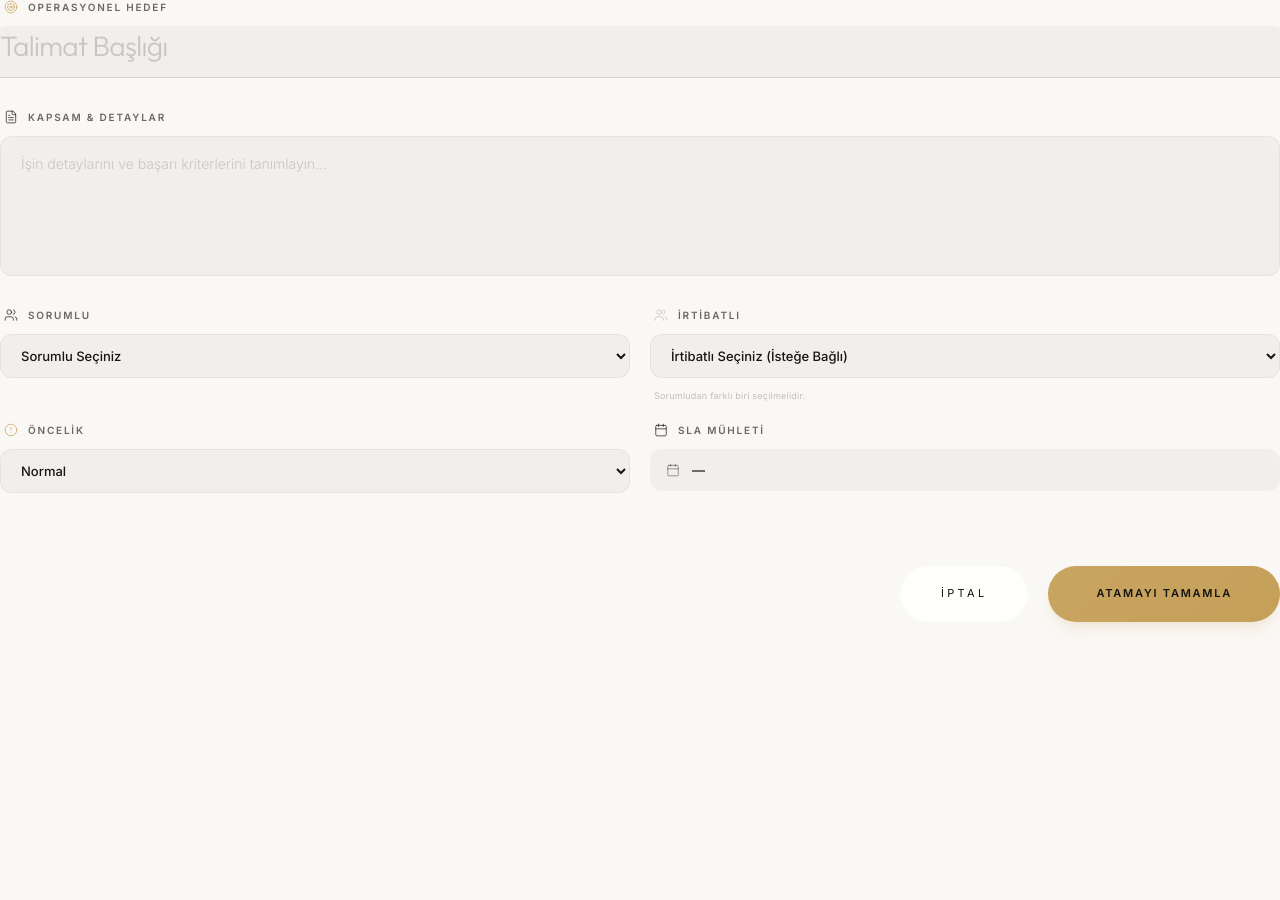
TaskFormModal › departman türetimi (P0-1) › Müdür, kendi birimi dışındaki bir personele talimat atayamaz (anlaşılır hata)
The width and height of the screenshot is (1280, 900).
In the field with placeholder "Talimat Başlığı": {"x": 640, "y": 52} [0, 26, 1279, 78], type "Test Talimatı"
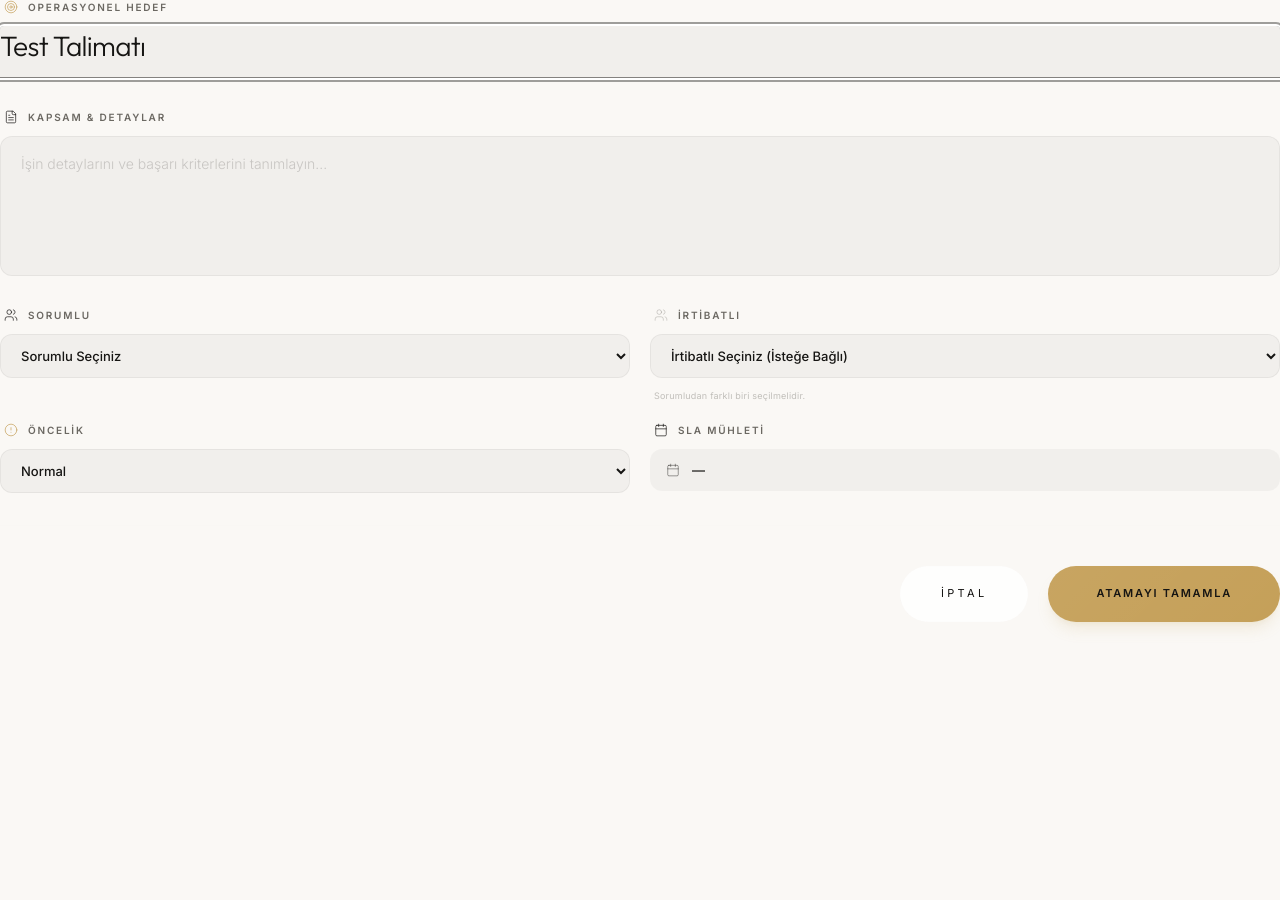
In the text box with placeholder "İşin detaylarını ve başarı kriterlerini tanımlayın...": {"x": 640, "y": 206} [0, 136, 1279, 276], type "Detaylı açıklama"
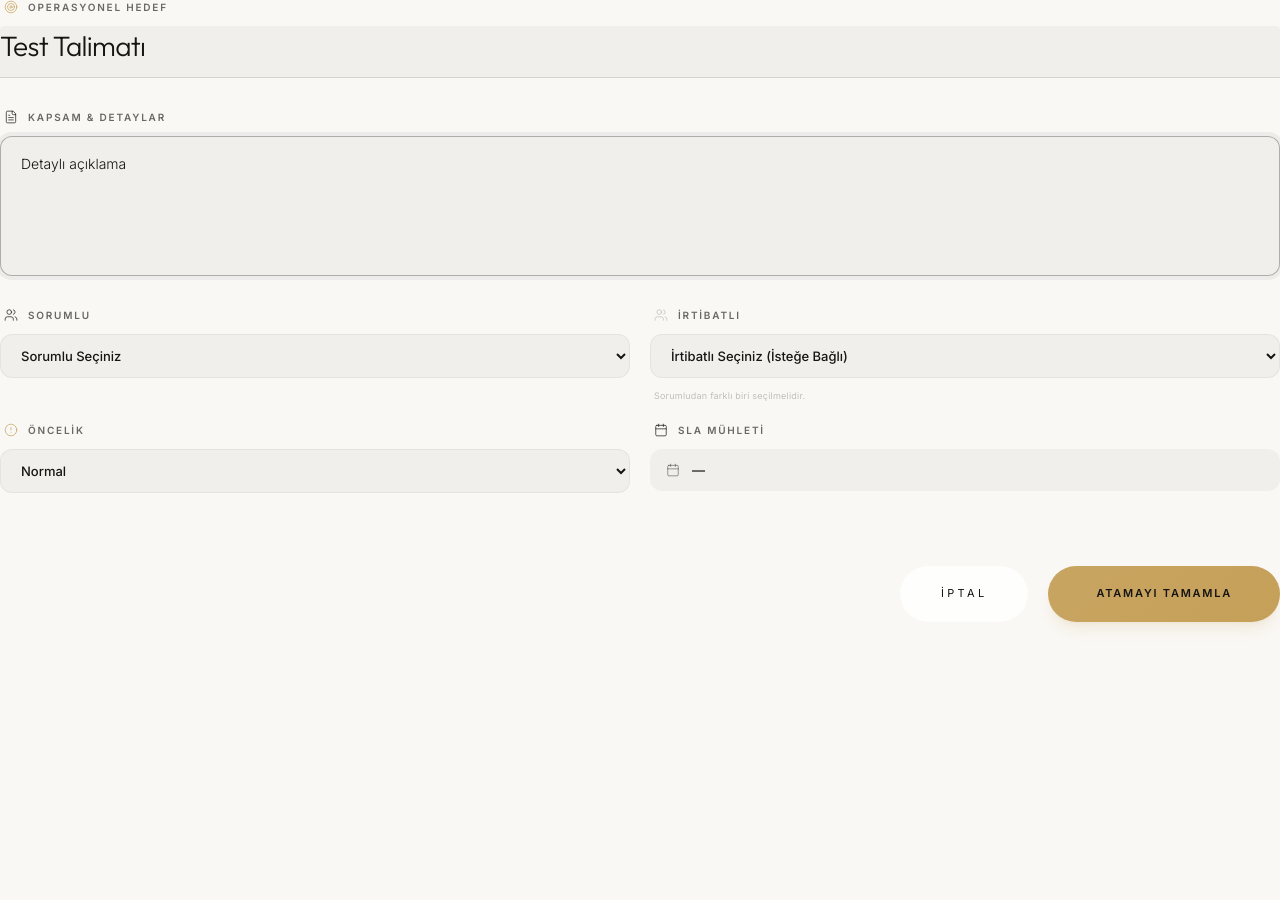
Select "Memur Veli" in the dropdown labelled "Sorumlu": {"x": 315, "y": 356} [0, 334, 630, 378]
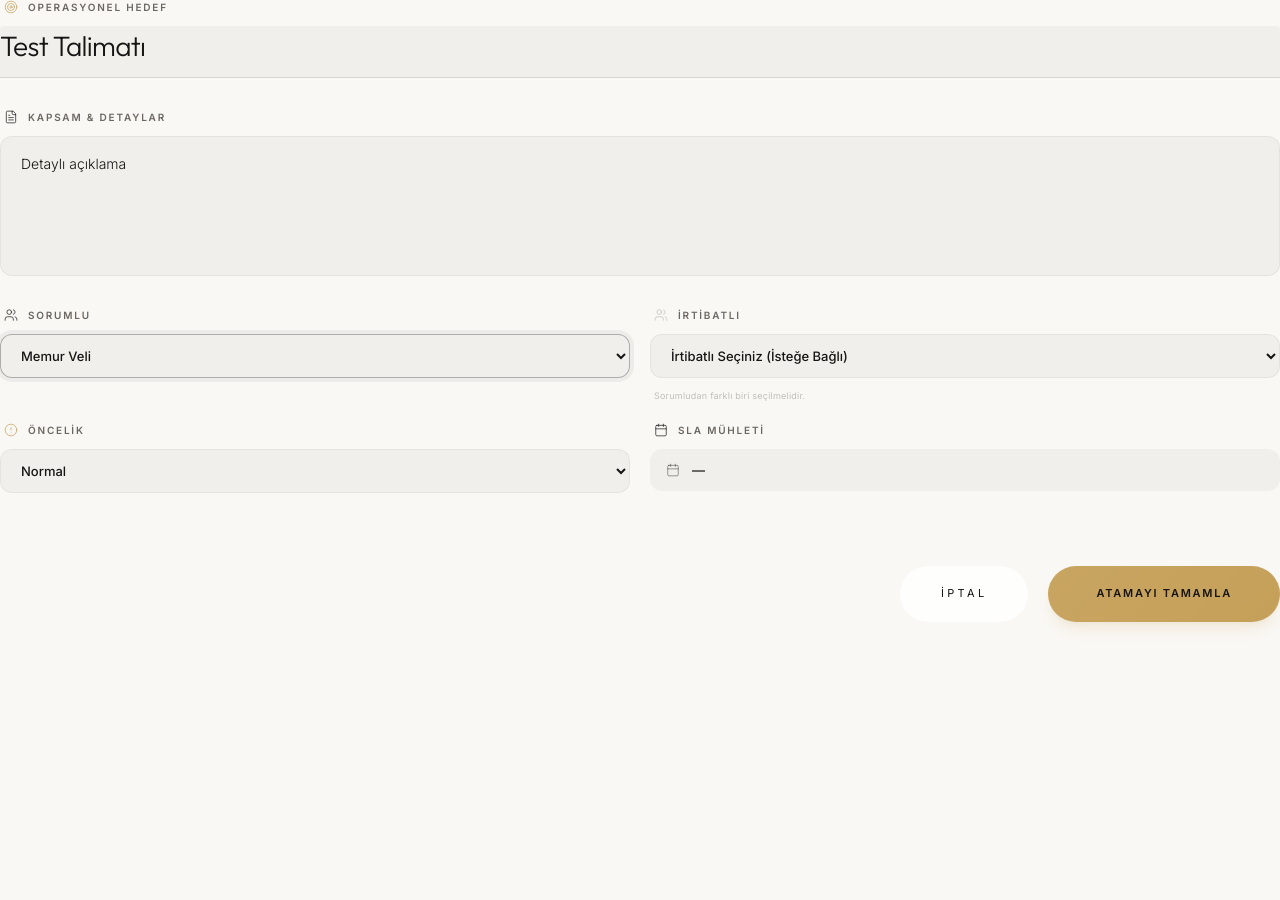
Click the button named "SLA mühleti": {"x": 673, "y": 470} [650, 449, 1279, 491]
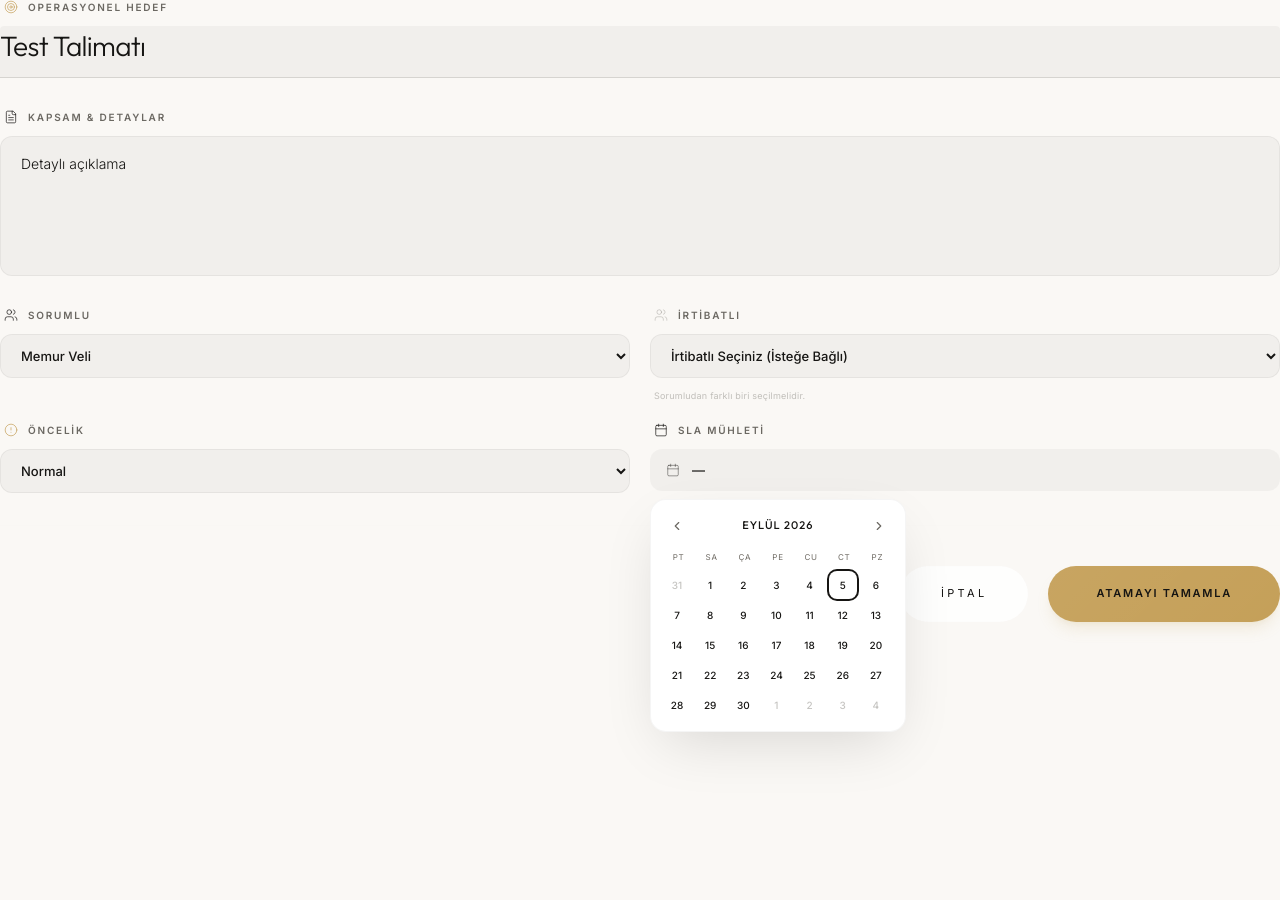
Click the button "5": {"x": 843, "y": 585} [829, 571, 857, 599]
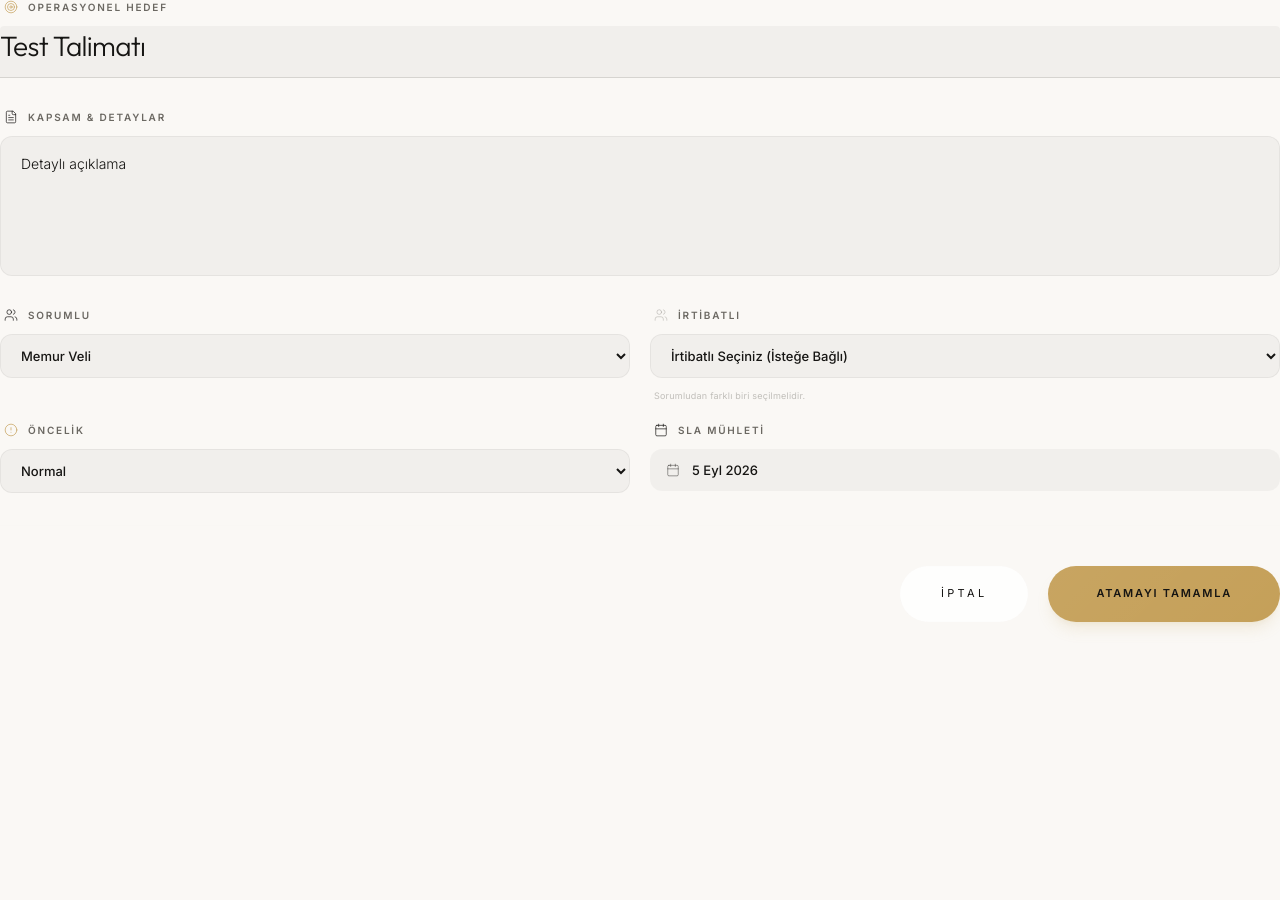
Click the button "ATAMAYI TAMAMLA": {"x": 1164, "y": 594} [1048, 566, 1279, 622]
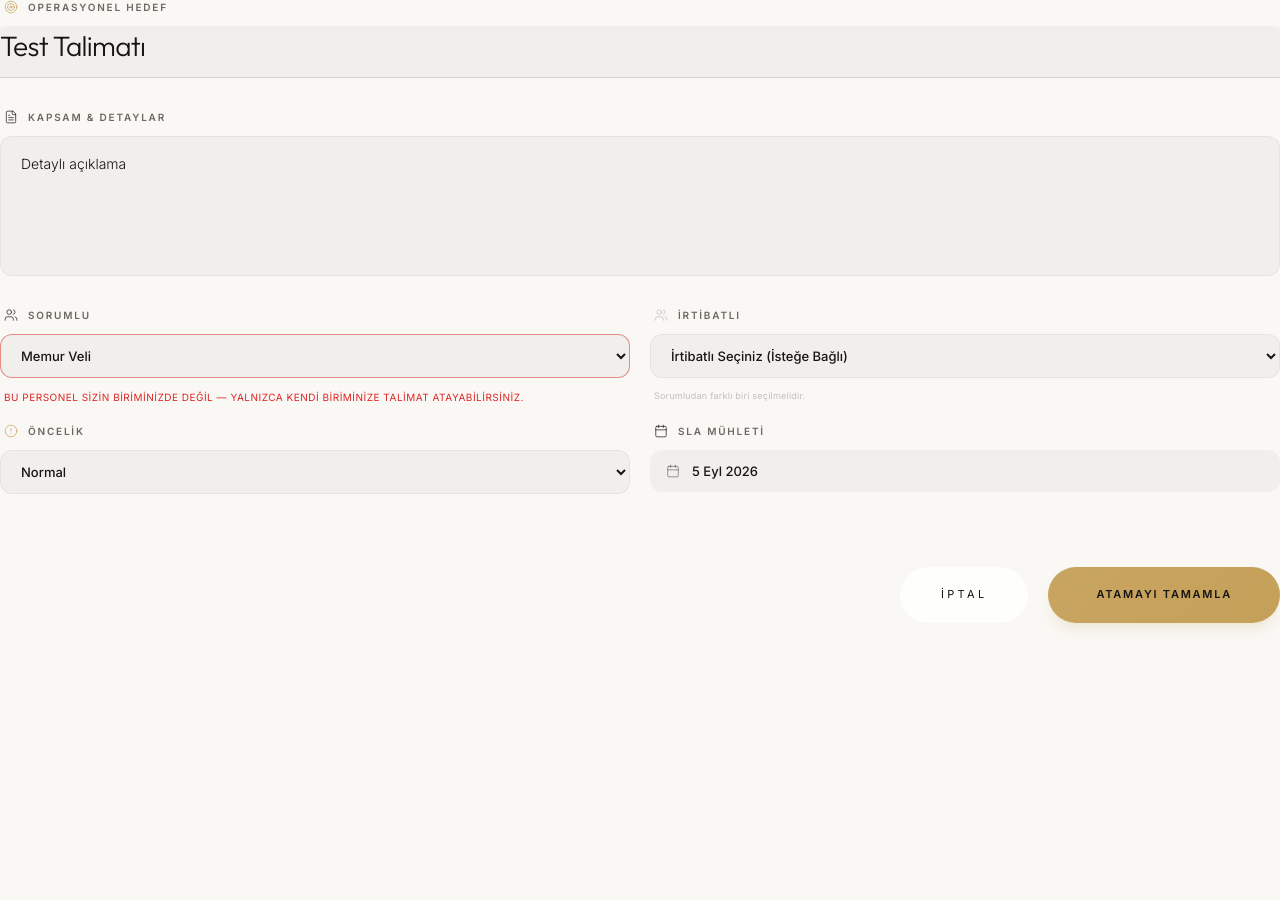
Check: the text "yalnızca kendi biriminize talimat atayabilirsiniz" is shown, box [4, 391, 524, 403]
